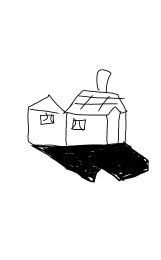chimney: (94, 63, 116, 92)
door: (104, 104, 123, 146)
open_window: (34, 113, 57, 128), (70, 119, 89, 133)
roof: (67, 89, 135, 115), (24, 85, 69, 114)
shadow: (31, 140, 153, 184)
small_house: (1, 2, 160, 260)
wall: (66, 108, 131, 146), (24, 108, 69, 147)
